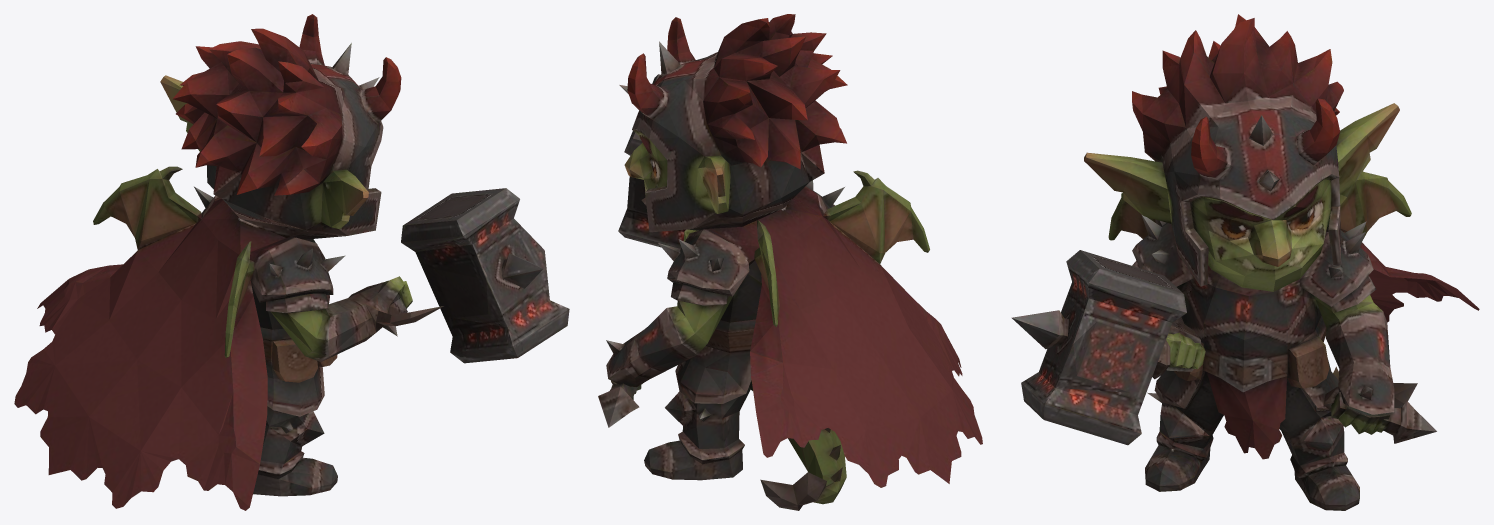
The model's file is boss.glb.
3 views of the same model, side by side, from view 1: azimuth 30°, elevation 25°; view 2: azimuth 150°, elevation 25°; view 3: azimuth 270°, elevation 25° (orthographic). The views are drawn at different scales.
Parts seen in each view (by area): view 1: tripo_node_1ad00d11-ef17-4514-a96e-5a64eac27d1b; view 2: tripo_node_1ad00d11-ef17-4514-a96e-5a64eac27d1b; view 3: tripo_node_1ad00d11-ef17-4514-a96e-5a64eac27d1b.
Boxes of the visible parts, x1,y1,x2,y2 form: tripo_node_1ad00d11-ef17-4514-a96e-5a64eac27d1b: [14, 14, 569, 510]; tripo_node_1ad00d11-ef17-4514-a96e-5a64eac27d1b: [598, 14, 982, 510]; tripo_node_1ad00d11-ef17-4514-a96e-5a64eac27d1b: [1011, 14, 1479, 510].
Bounding box in the file's own units: 0.9941 × 0.9941 × 0.9316.
1 material, 1 textured.
